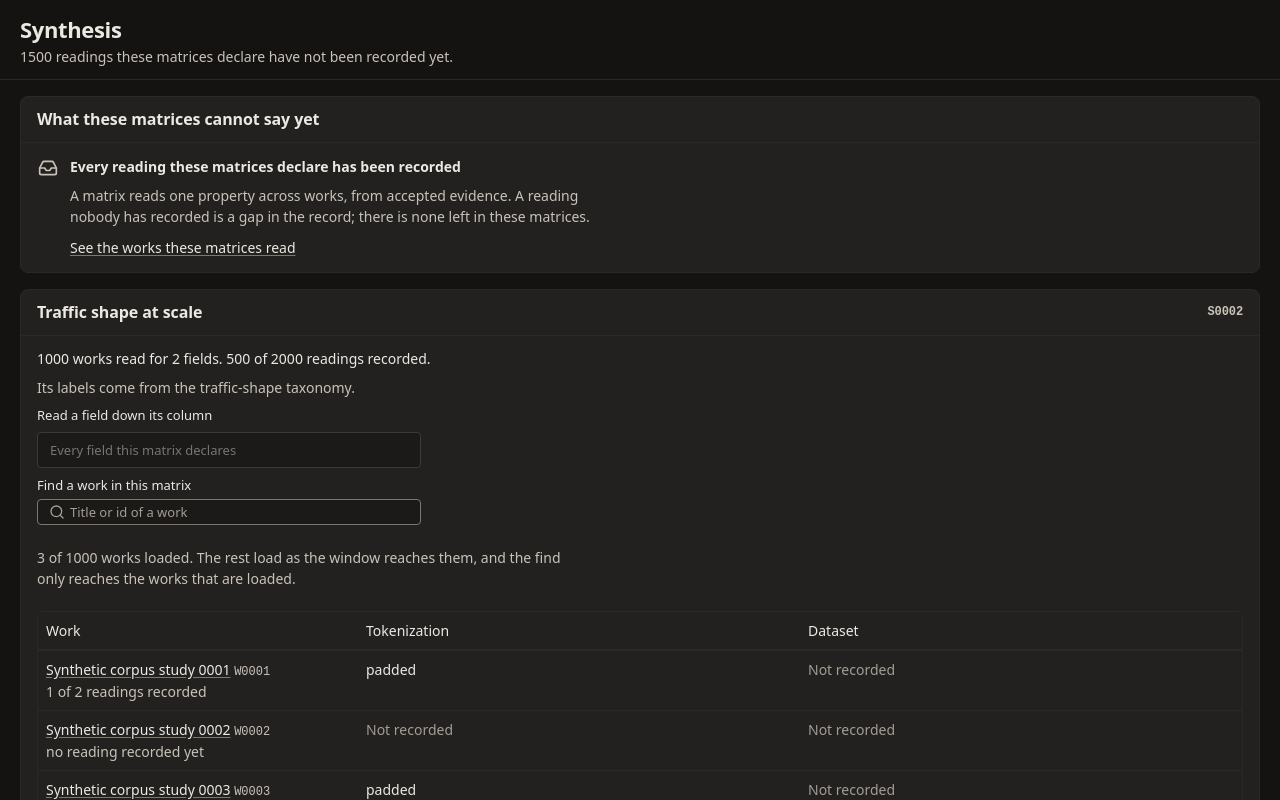
the synthesis page › finds a work in what is loaded, and says how far the find reaches
This screenshot has width=1280, height=800.
Type "0002" into the search field labelled "Find a work in this matrix" at point(229, 512), box [37, 498, 421, 524]
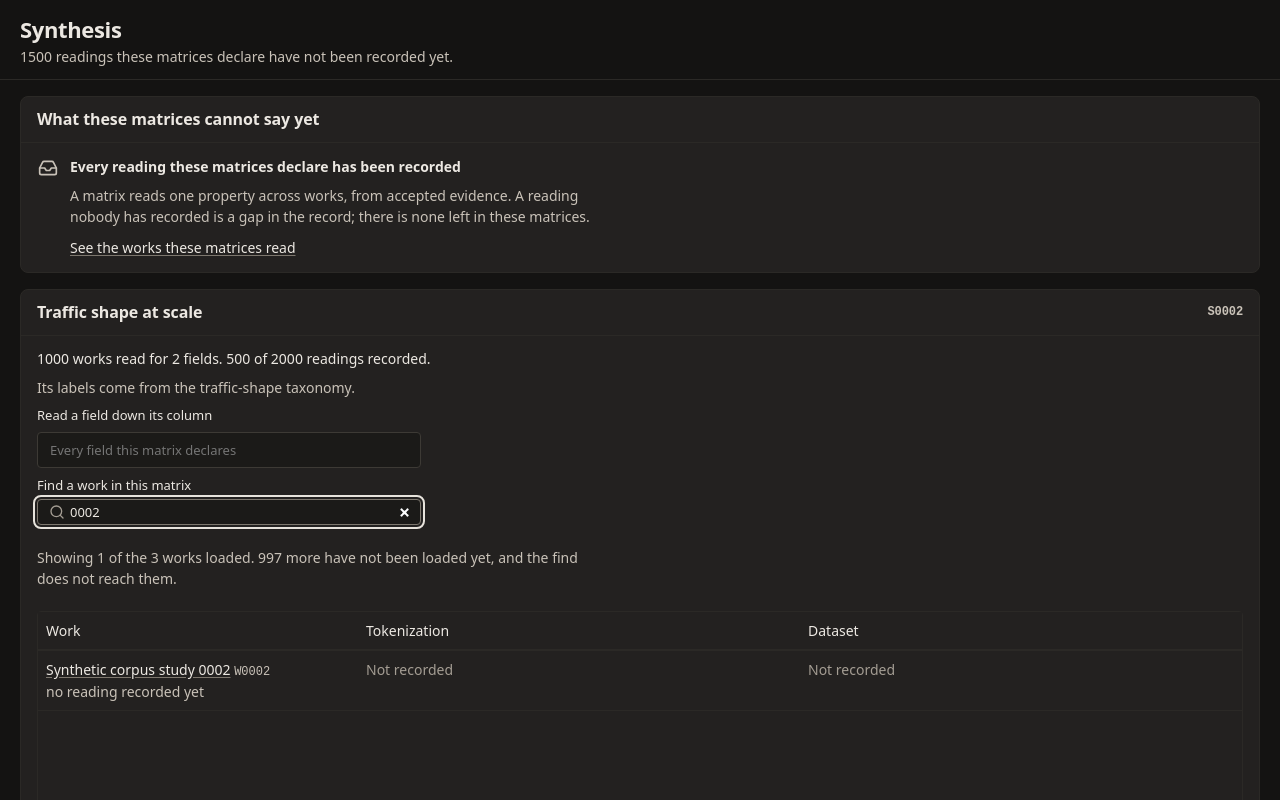
Check: the element "Synthetic corpus study 0002 W0002 no reading recorded yet" is shown, box [38, 650, 358, 710]
Check: the link "Synthetic corpus study 0001" is gone
Check: the text "Showing 1 of the 3 works loaded. 997 more have not been loaded yet, and the find does not reach them." is shown, box [37, 548, 578, 588]
